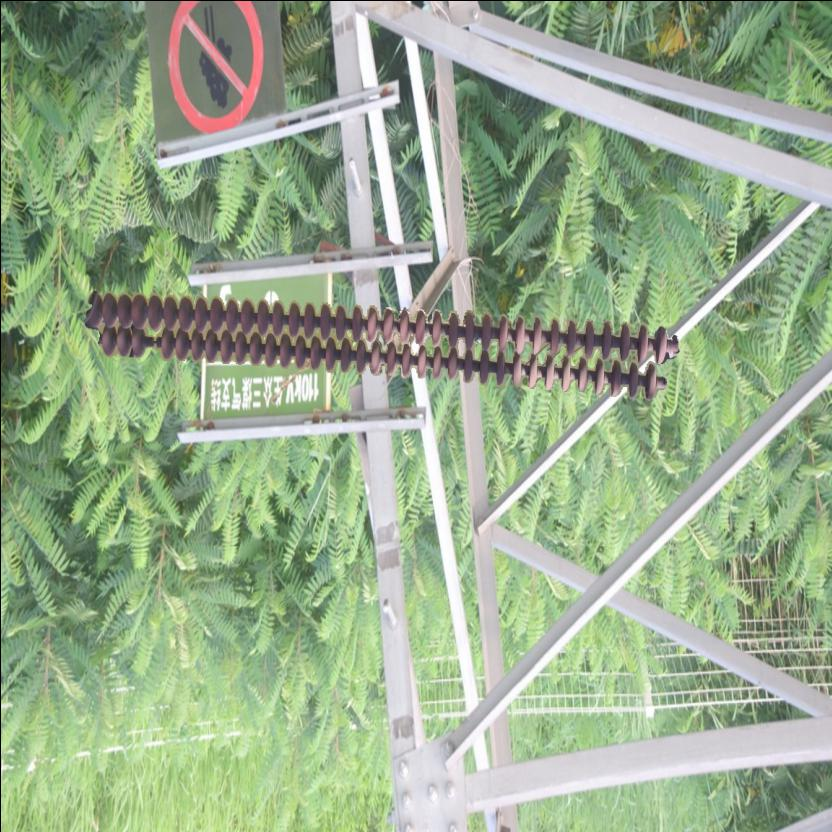defect: (130, 325, 176, 367)
